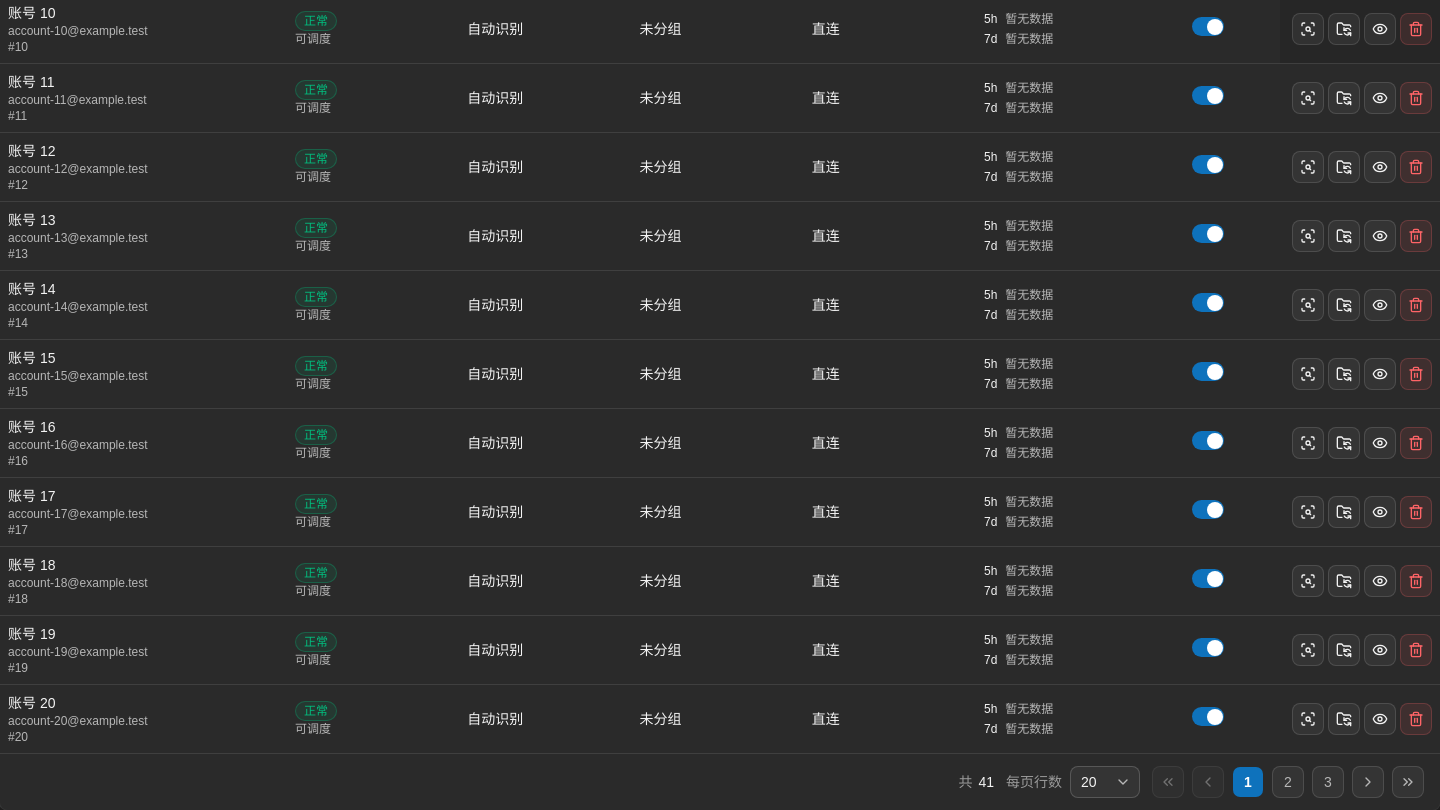
Scenario: 调整每页行数后回到首页，无匹配数据展示空状态
This screenshot has width=1440, height=810.
(page scrolled)
Click the button named "转到下一页": point(1368, 782) top-left (1352, 766), bottom-right (1384, 798)
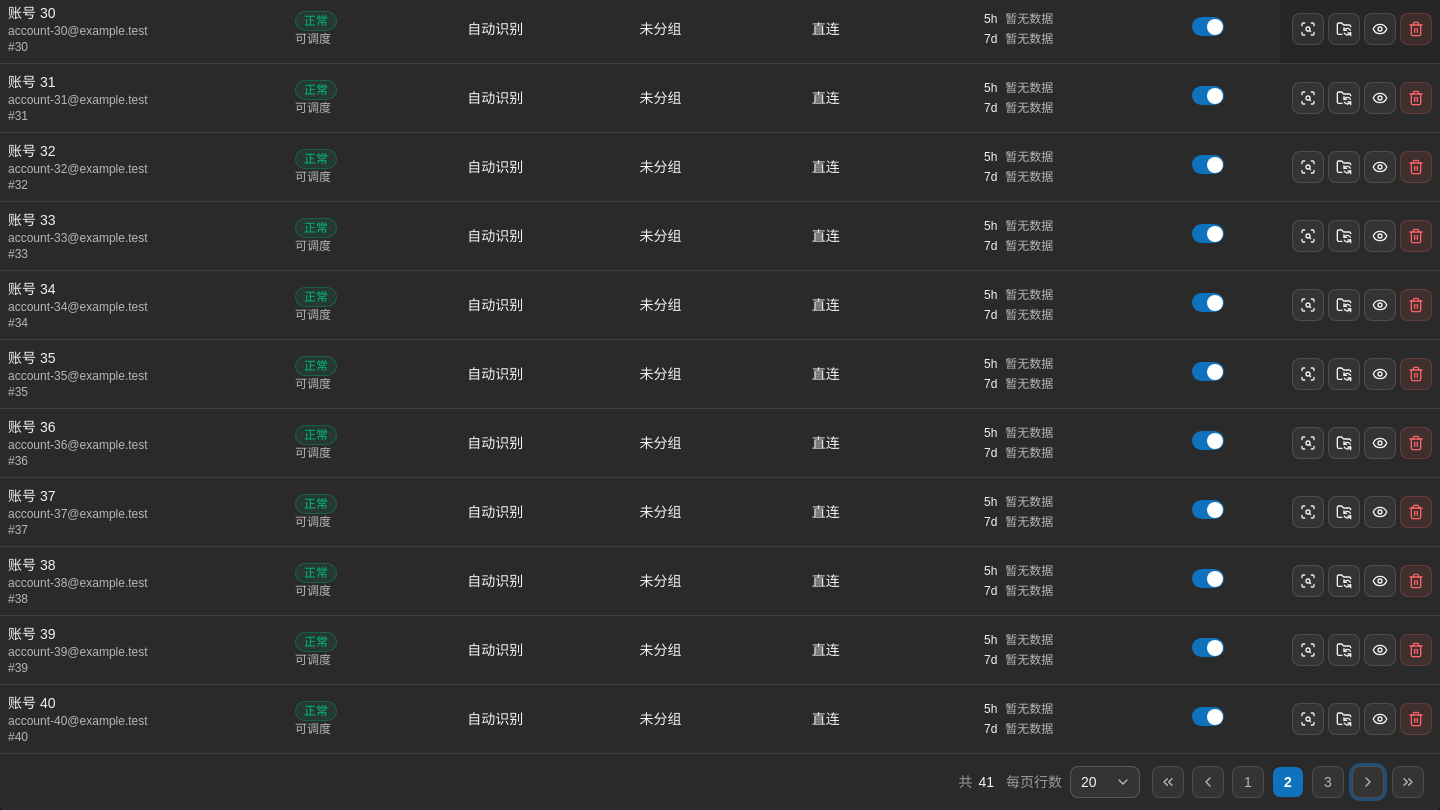
Click the dropdown named "每页行数": point(1105, 782) top-left (1070, 766), bottom-right (1140, 798)
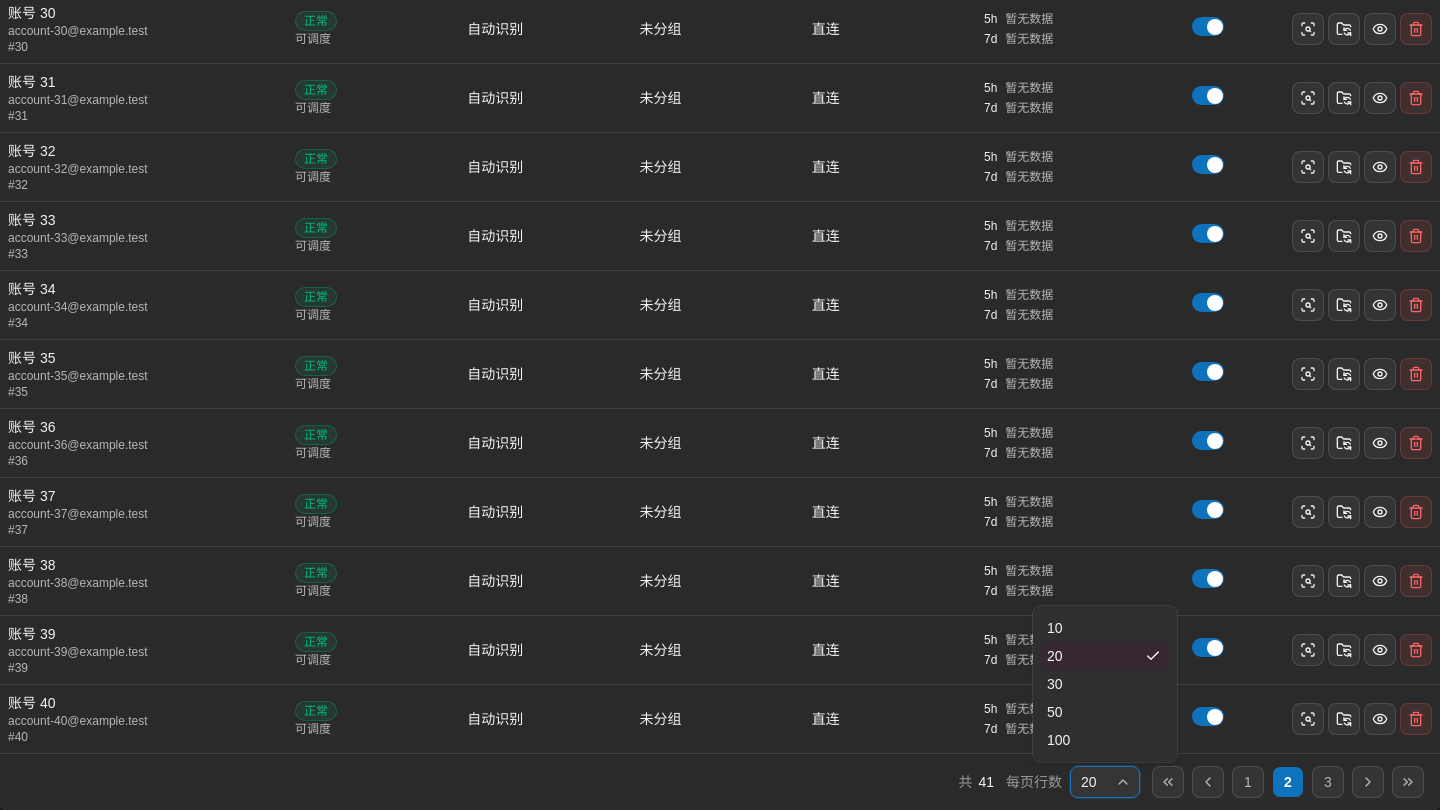
Click the option "50": point(1055, 712) top-left (1047, 704), bottom-right (1063, 720)
(page scrolled)
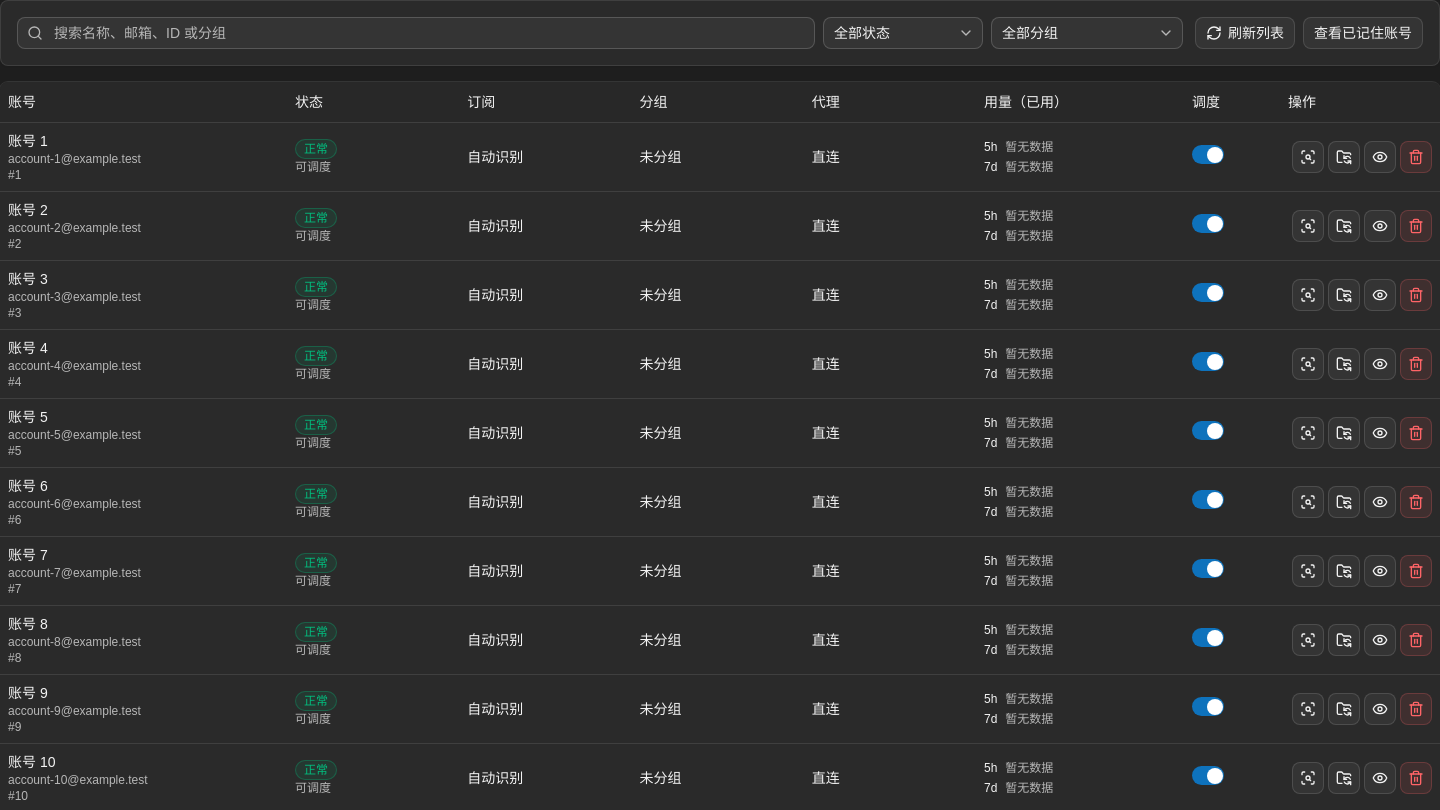
expect the number of rows is 42: met
In the search field named "搜索账号": point(416, 33) top-left (17, 17), bottom-right (815, 49), type "absent"
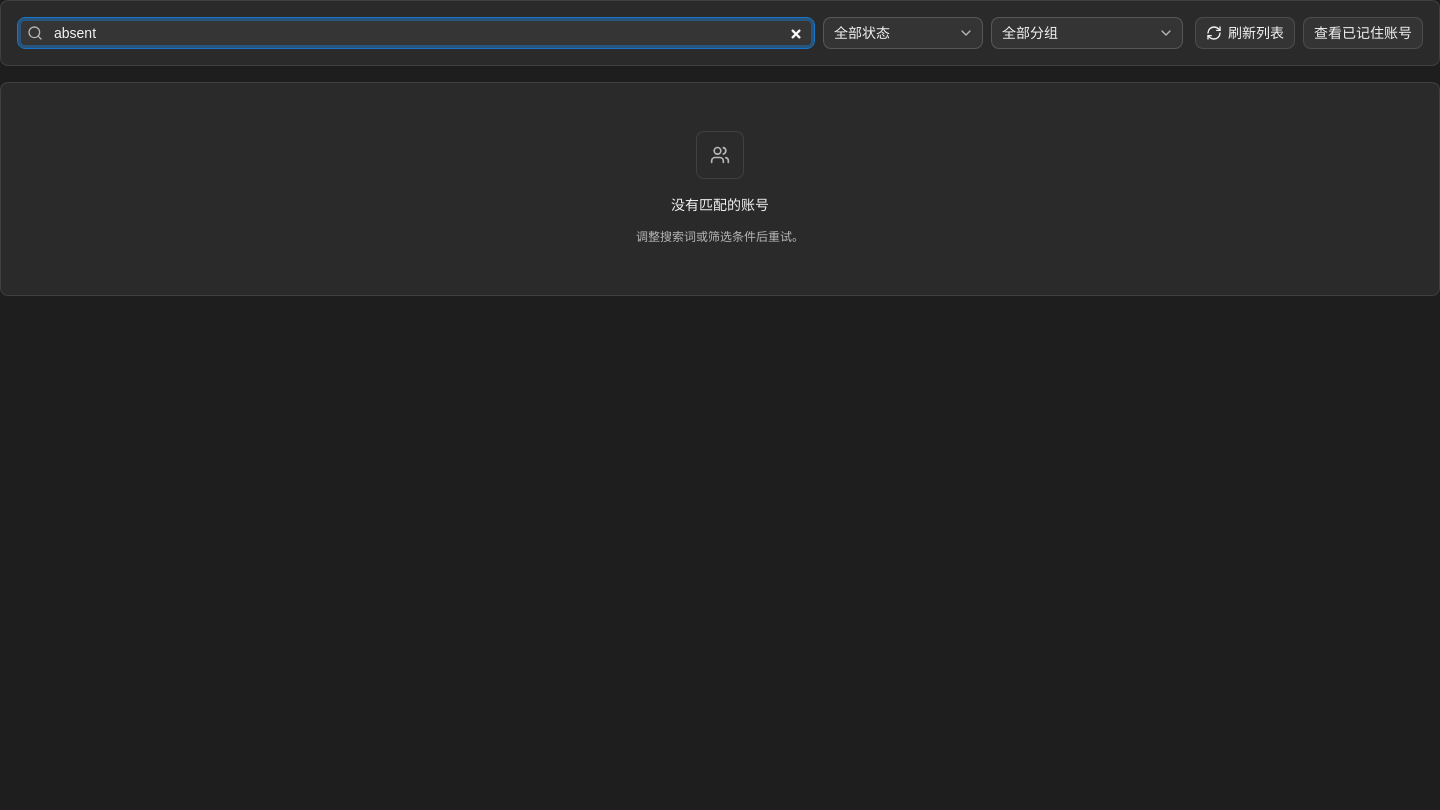
expect the text "没有匹配的账号" is shown: met, box top-left (671, 195), bottom-right (769, 215)
